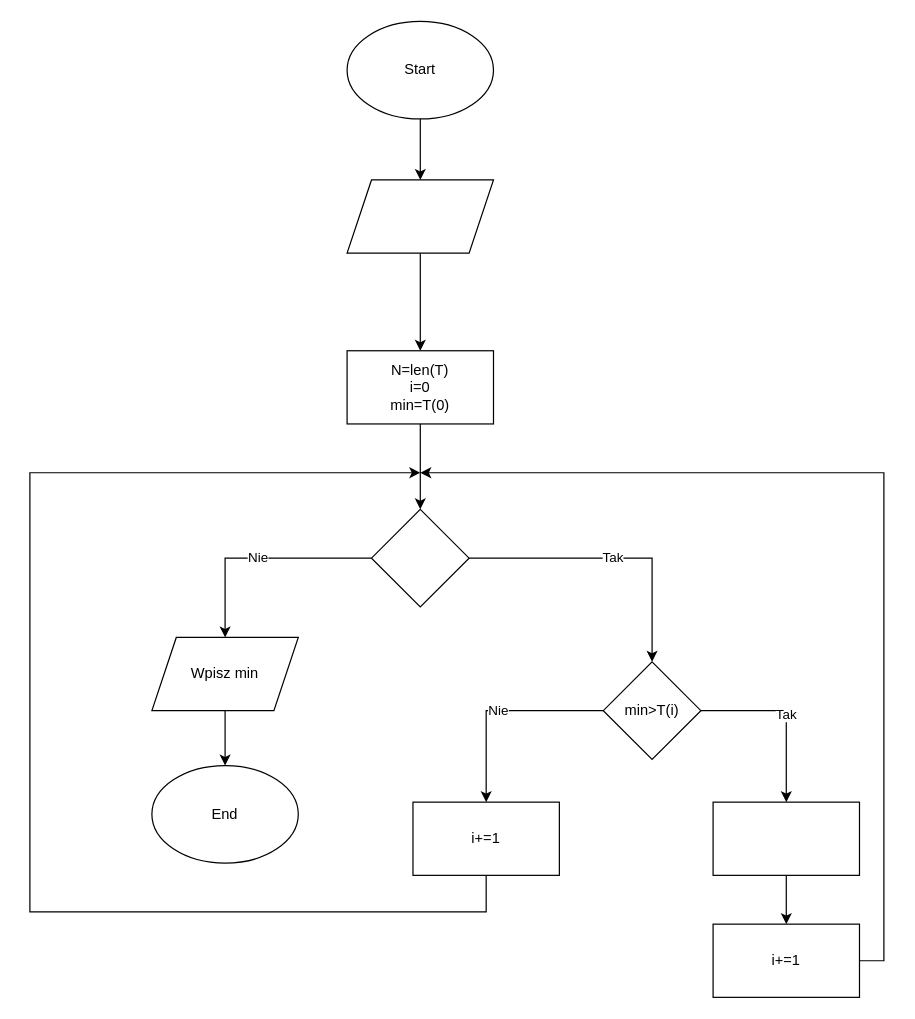
Image size: 915x1019. Some labels were removed from this diagram. The shapes that lost their labels are listed below. From the top down, each one's box as (x1, y1, x2, y2) in pixels, then its label:
(346, 179, 493, 253): Podaj T
(370, 508, 469, 607): i<N
(712, 801, 859, 875): min=T[i]
